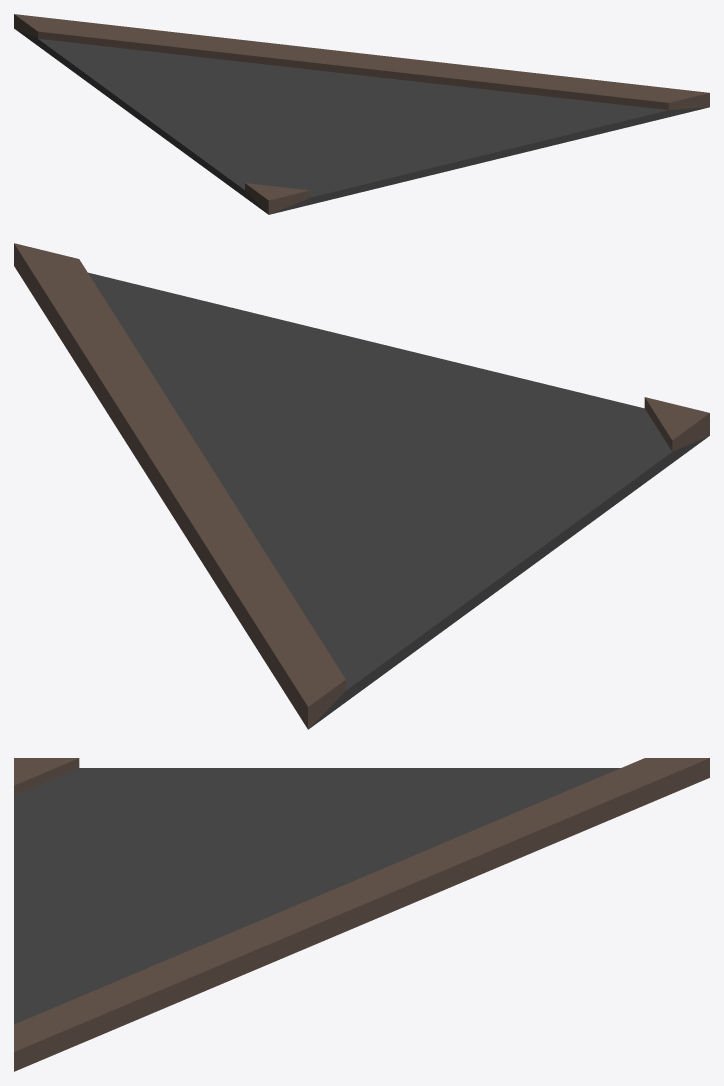
Rendered from top_left.glb.
3 renders of one model, top to bottom at view 1: azimuth 30°, elevation 25°; view 2: azimuth 150°, elevation 25°; view 3: azimuth 270°, elevation 25°, orthographic. The views are drawn at different scales.
Visible parts, largest first — view 1: Maxis-3d1-mesh-68; view 2: Maxis-3d1-mesh-68; view 3: Maxis-3d1-mesh-68.
Part boxes in pixels (x1=…): Maxis-3d1-mesh-68: x1=14, y1=14, x2=709, y2=214; Maxis-3d1-mesh-68: x1=14, y1=243, x2=709, y2=729; Maxis-3d1-mesh-68: x1=14, y1=758, x2=709, y2=1071.
Bounding box in the file's own units: 16 × 0.5 × 16.
